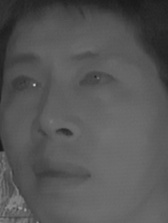eye: (77, 67, 117, 92), (8, 73, 44, 94)
mouth: (22, 154, 94, 194)
